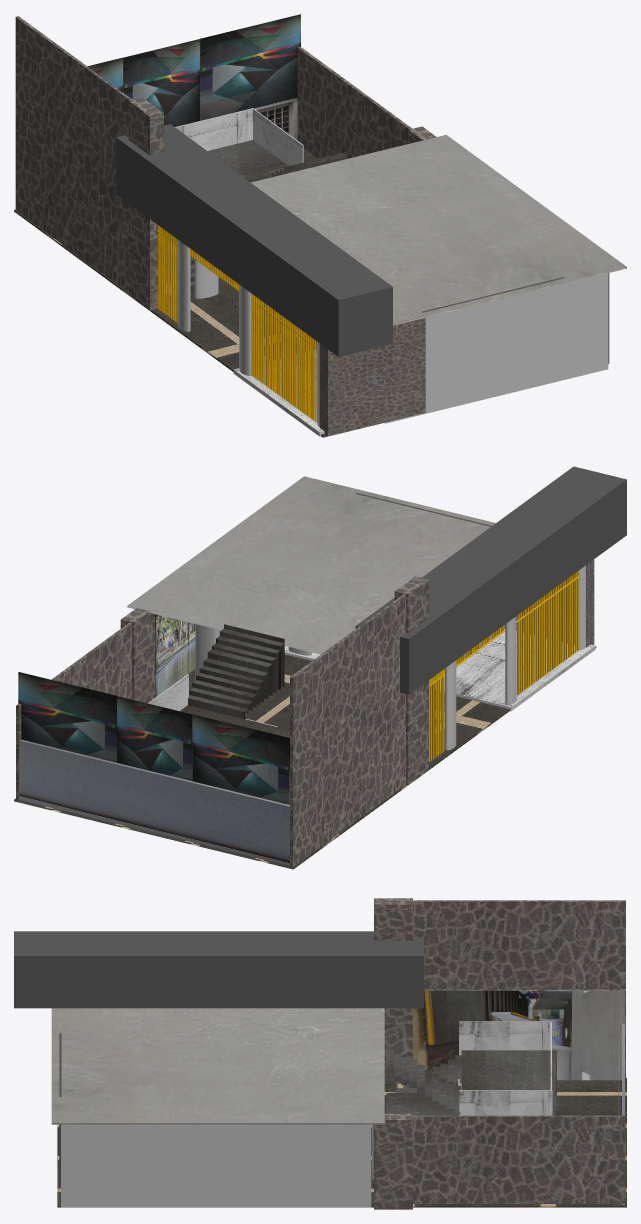
File: Escuela.obj
3 views of the same model, one above another, from view 1: azimuth 30°, elevation 25°; view 2: azimuth 150°, elevation 25°; view 3: azimuth 270°, elevation 25° (orthographic). The views are drawn at different scales.
Parts seen in each view (by area): view 1: Techo, Cubo, Puertascristal, ParedAfuera, ParedAfuera.001, Plano.001, Pared_plancha, ParedAfuera.002, Puerta, Plano.003, PisoBase, Escaleras.002 (+5 smaller); view 2: Techo, Cubo, ParedAuditorio, ParedAfuera, ParedAfuera.001, Puerta, Plano.002, Escaleras, Plano.001, ParedAfuera.002, Plano.003, PisoBase (+6 smaller); view 3: Techo, Cubo, Plano.006, ParedAfuera.002, ParedAfuera.001, Plano, Escaleras.002, Escaleras.001, PisoBase, Escaleras, ParedAfuera.
Part boxes in pixels (box(x1,y1,x2,y2)): Techo: box(250, 134, 626, 325); Cubo: box(116, 124, 392, 356); Puertascristal: box(384, 273, 608, 423); ParedAfuera: box(15, 114, 161, 310); ParedAfuera.001: box(15, 16, 163, 186); Plano.001: box(200, 14, 300, 140); Pared_plancha: box(320, 316, 425, 436); ParedAfuera.002: box(297, 47, 436, 158); Puerta: box(157, 225, 332, 423); Plano.003: box(122, 39, 200, 126); PisoBase: box(14, 148, 327, 437); Escaleras.002: box(175, 108, 303, 165); Techo: box(127, 476, 495, 654); Cubo: box(355, 466, 626, 694); ParedAuditorio: box(19, 739, 289, 865); ParedAfuera: box(290, 680, 428, 867); ParedAfuera.001: box(290, 576, 428, 772); Puerta: box(429, 571, 579, 762); Plano.002: box(192, 714, 289, 804); Escaleras: box(188, 624, 284, 719); Plano.001: box(18, 672, 116, 762); ParedAfuera.002: box(16, 608, 154, 800); Plano.003: box(117, 696, 192, 781); PisoBase: box(14, 646, 596, 869); Techo: box(51, 1008, 384, 1124); Cubo: box(14, 931, 423, 1008); Plano.006: box(61, 1124, 371, 1207); ParedAfuera.002: box(374, 1113, 625, 1209); ParedAfuera.001: box(374, 898, 625, 990); Plano: box(413, 990, 624, 1080); Escaleras.002: box(458, 1021, 552, 1115); Escaleras.001: box(461, 1050, 556, 1115); PisoBase: box(57, 1078, 626, 1207); Escaleras: box(386, 1049, 461, 1115); ParedAfuera: box(384, 991, 625, 1083).
Size of the model in its own units: 901 by 547 by 1680.
